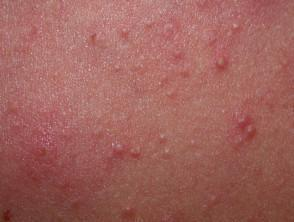papular: (103, 130, 155, 172), (228, 111, 268, 150)
purulent: (208, 48, 238, 80)
whitehead: (113, 21, 147, 50), (157, 130, 179, 168)
